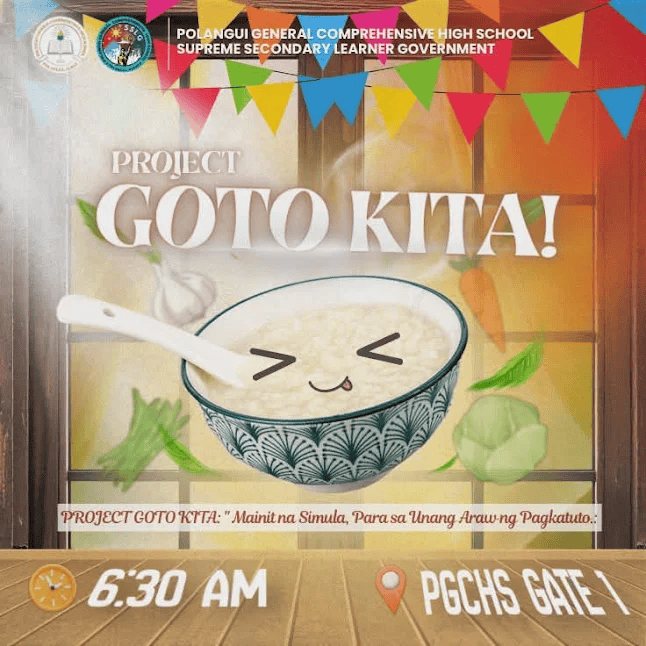embellishment: (25, 561, 79, 614), (370, 561, 412, 618)
logo: (28, 12, 93, 79), (94, 12, 155, 75)
text: (93, 141, 572, 261), (174, 24, 539, 61), (417, 563, 638, 620), (61, 508, 598, 528), (83, 562, 273, 611)
